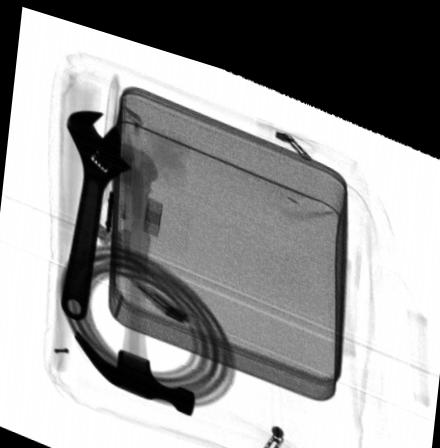Hammer: (74, 135, 196, 404)
Wrench: (61, 106, 135, 317)
